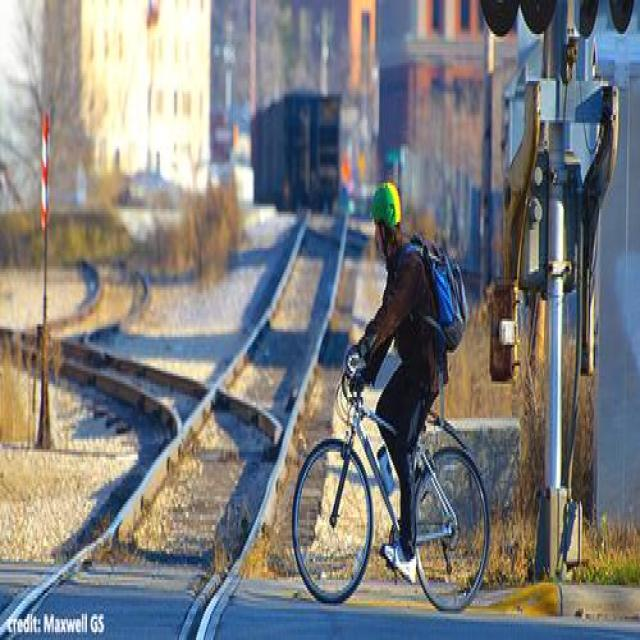bikerider: (282, 172, 494, 622)
